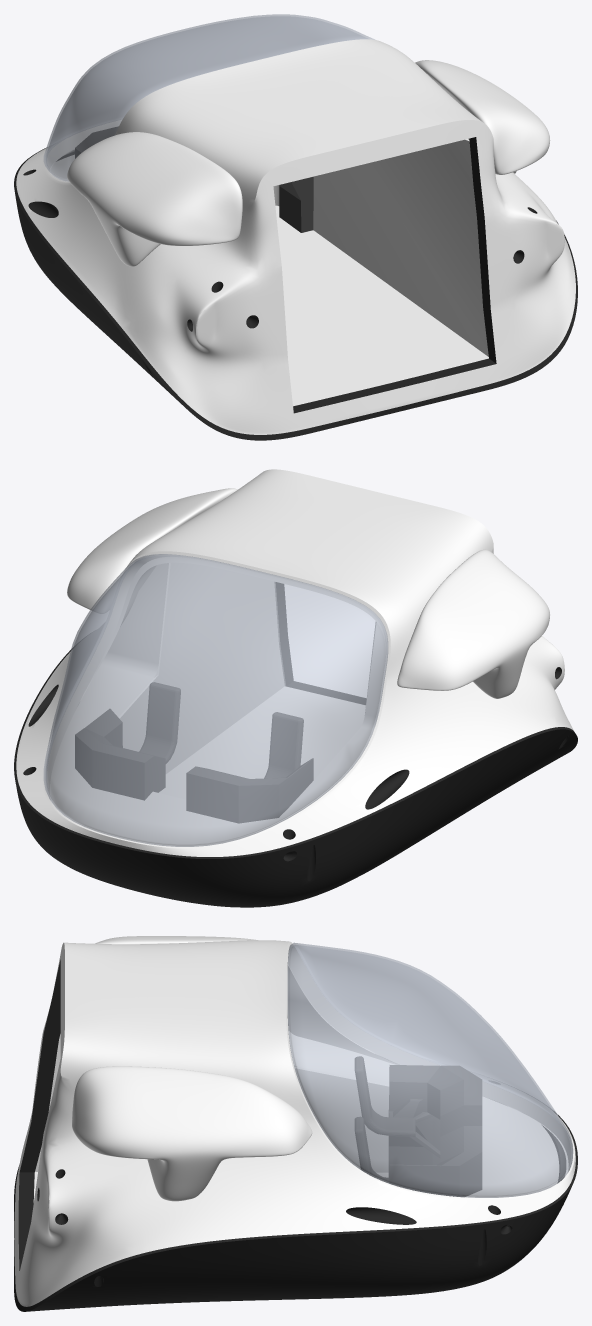
Rendered from Pod.gltf.
3 views of the same model, one above another, from view 1: azimuth 30°, elevation 25°; view 2: azimuth 150°, elevation 25°; view 3: azimuth 270°, elevation 25° (orthographic).
Parts seen in each view (by area): view 1: hull, walls, window, nacelle-left, nacelle-right, seat2; view 2: hull, window, walls, nacelle-left, seat2, seat1, nacelle-right; view 3: hull, window, nacelle-right, walls, seat1, seat2, nacelle-left.
Boxes of the visible parts, left/top/right/bottom form: hull: left=14, top=39, right=577, bottom=440; walls: left=50, top=138, right=488, bottom=406; window: left=43, top=14, right=374, bottom=181; nacelle-left: left=67, top=132, right=242, bottom=266; nacelle-right: left=415, top=60, right=550, bottom=174; seat2: left=279, top=176, right=313, bottom=232; hull: left=14, top=469, right=577, bottom=907; window: left=43, top=554, right=388, bottom=846; walls: left=50, top=563, right=384, bottom=846; nacelle-left: left=397, top=549, right=549, bottom=698; seat2: left=75, top=682, right=180, bottom=800; seat1: left=186, top=712, right=313, bottom=823; nacelle-right: left=67, top=488, right=237, bottom=610; hull: left=14, top=940, right=577, bottom=1311; window: left=287, top=942, right=573, bottom=1197; nacelle-right: left=72, top=1066, right=312, bottom=1201; walls: left=33, top=1030, right=558, bottom=1202; seat1: left=355, top=1056, right=481, bottom=1166; seat2: left=355, top=1117, right=481, bottom=1196; nacelle-left: left=95, top=936, right=257, bottom=944.
Bounding box in the file's own units: 5.42 × 3 × 5.97.
